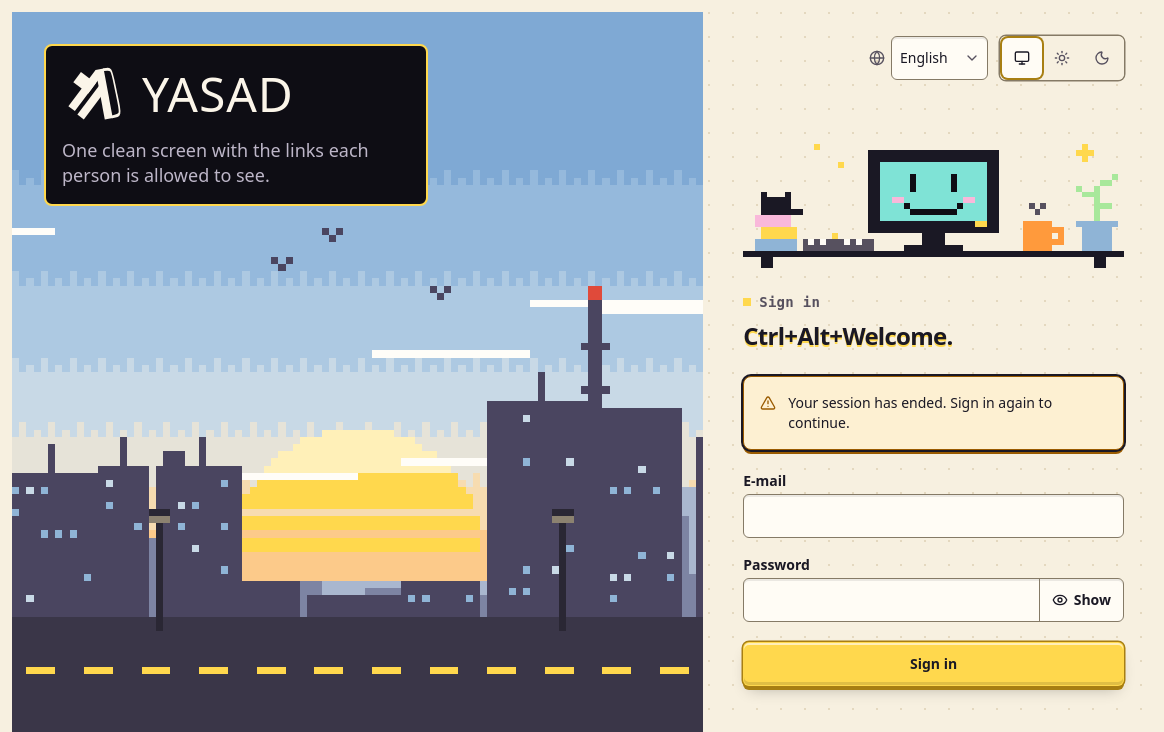
Test: SignIn › says that the session ended, focused, until the person submits
Type "ada@example.invalid" into the field labelled "E-mail" at (934, 516), box [743,494,1124,538]
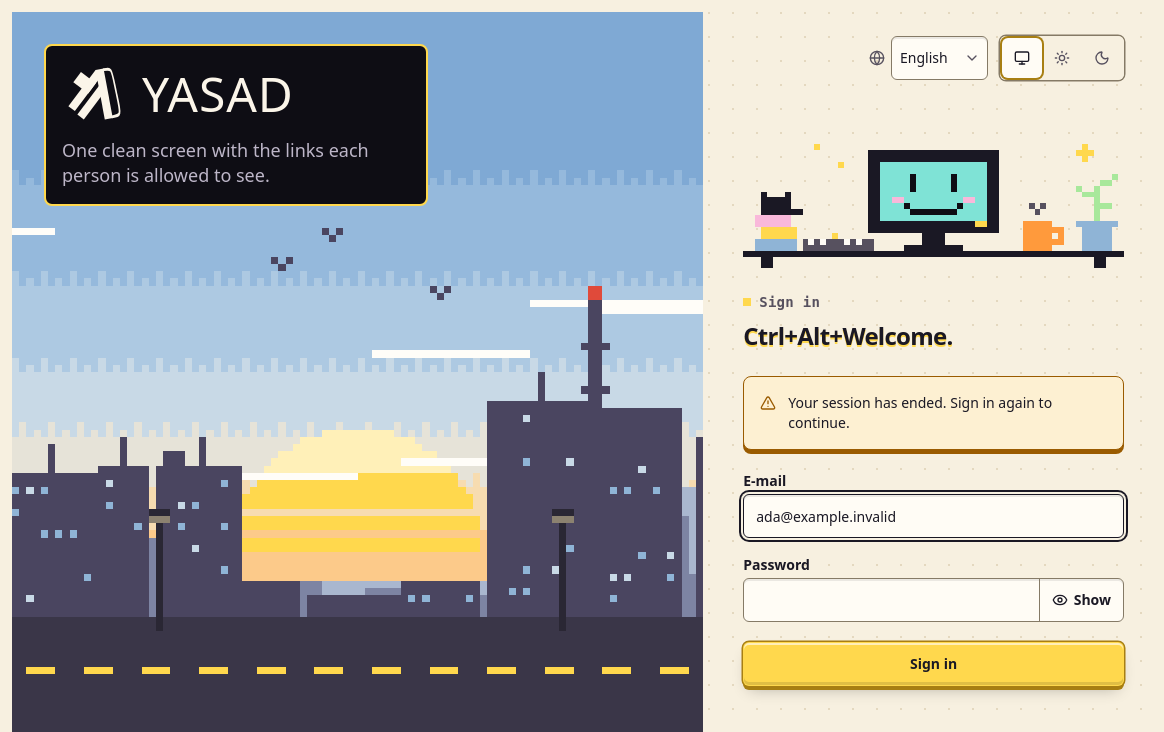
Type "wrong password!" into the password field labelled "Password" at (891, 600), box [744,580,1039,622]
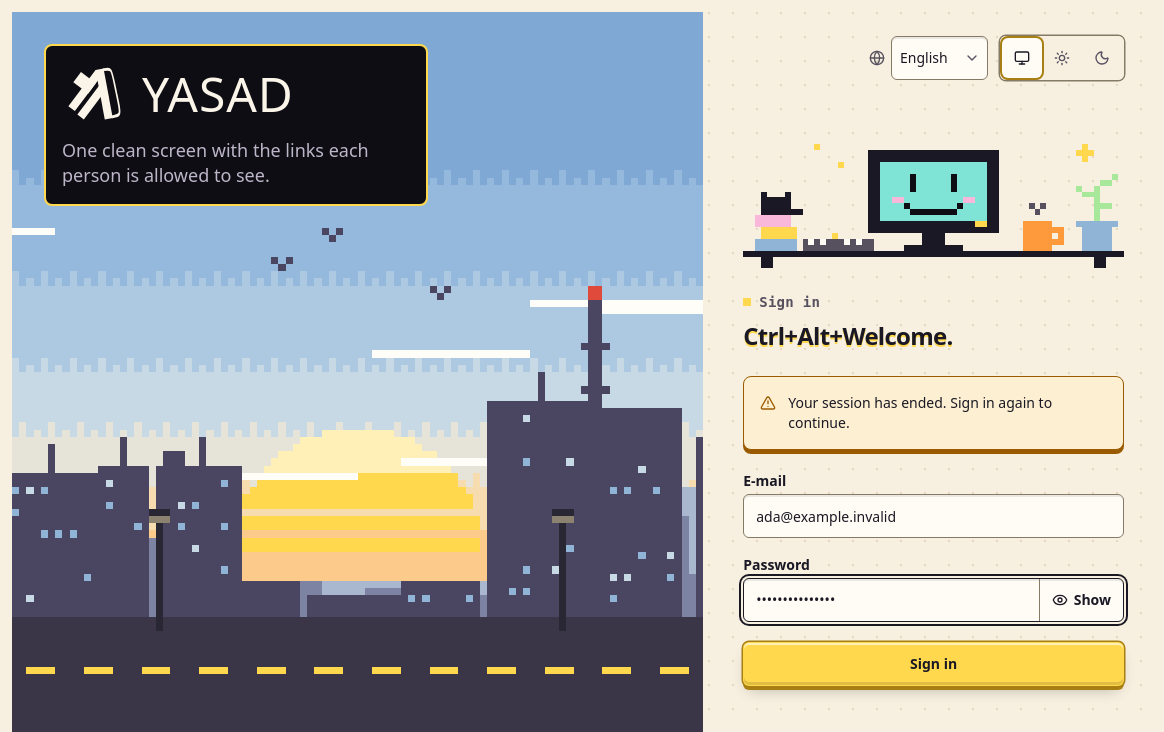
Click the button "Sign in" at (934, 664), box [743,642,1124,686]
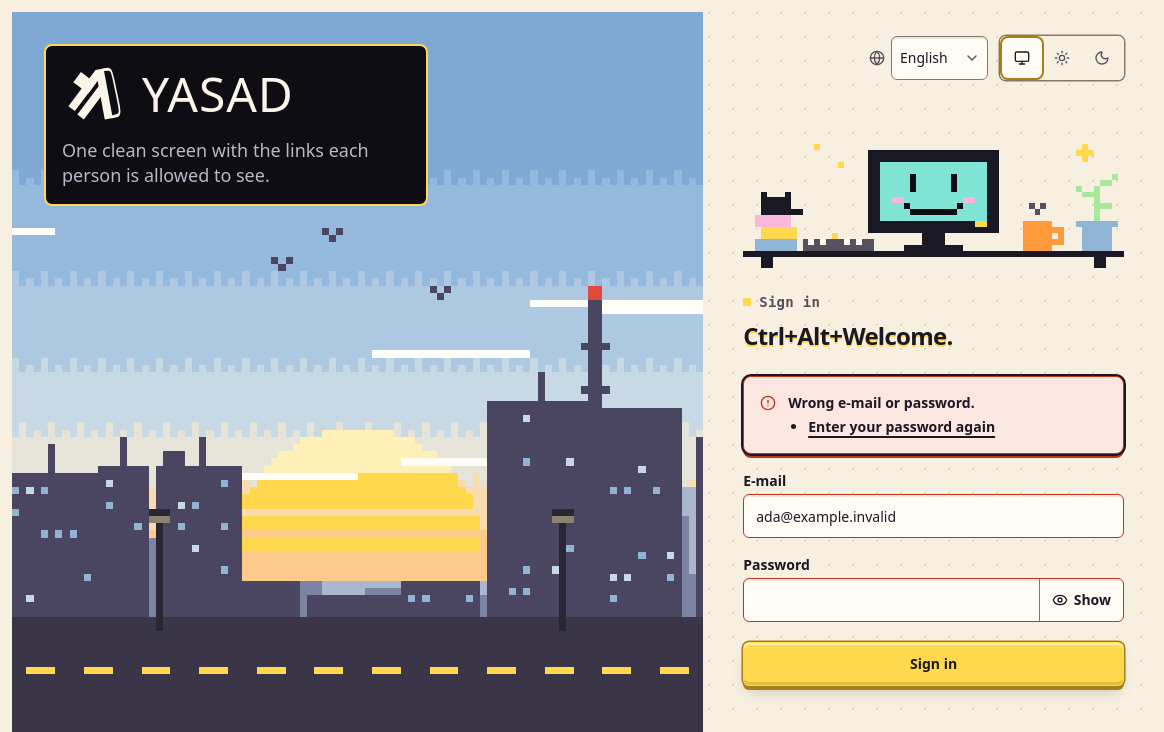
Check: the text "Your session has ended. Sign in again to continue." is gone
